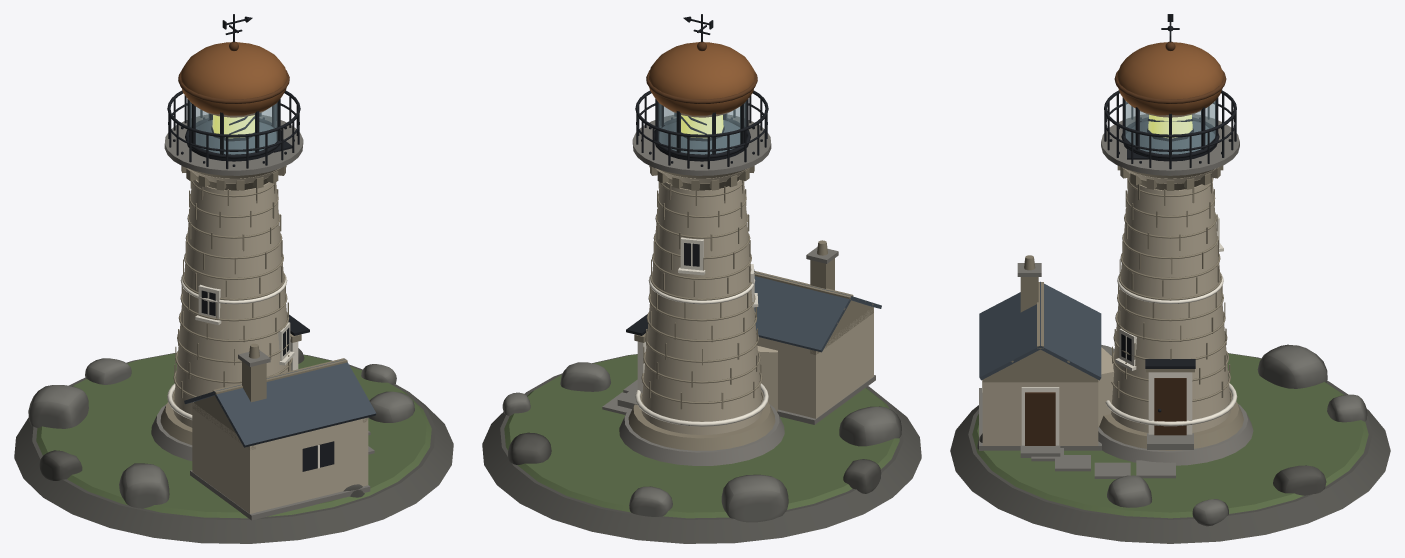
Rendered from lighthouse.glb.
3 renders of one model, left to right at view 1: azimuth 30°, elevation 25°; view 2: azimuth 150°, elevation 25°; view 3: azimuth 270°, elevation 25°, orthographic.
Parts seen in each view (by area): view 1: Mesh_GrassTop, Mesh_Tower, Mesh_BasePlatform, Mesh_CottageRoofL, Mesh_CottageWallN, Mesh_CopperDome, Mesh_CottageWallW, Mesh_GalleryDeck, Mesh_LanternGlass, Mesh_Rock4, Mesh_Rock2, Mesh_LanternFloor (+15 smaller); view 2: Mesh_GrassTop, Mesh_Tower, Mesh_BasePlatform, Mesh_CopperDome, Mesh_CottageRoofR, Mesh_CottageWallW, Mesh_PlinthStep1, Mesh_GalleryDeck, Mesh_PlinthStep2, Mesh_Rock4, Mesh_LanternGlass, Mesh_CottageWallS (+17 smaller); view 3: Mesh_GrassTop, Mesh_Tower, Mesh_BasePlatform, Mesh_CopperDome, Mesh_CottageWallE, Mesh_CottageRoofR, Mesh_CottageRoofL, Mesh_GalleryDeck, Mesh_LanternGlass, Mesh_PlinthStep1, Mesh_Rock4, Mesh_CottageGableE (+22 smaller).
Part boxes in pixels (left/top/right/bottom): Mesh_GrassTop: left=36, top=353, right=431, bottom=518; Mesh_Tower: left=173, top=179, right=291, bottom=427; Mesh_BasePlatform: left=14, top=353, right=453, bottom=543; Mesh_CottageRoofL: left=214, top=359, right=376, bottom=447; Mesh_CottageWallN: left=255, top=419, right=362, bottom=512; Mesh_CopperDome: left=180, top=42, right=286, bottom=117; Mesh_CottageWallW: left=192, top=402, right=255, bottom=513; Mesh_GalleryDeck: left=164, top=114, right=303, bottom=175; Mesh_LanternGlass: left=190, top=102, right=277, bottom=154; Mesh_Rock4: left=28, top=385, right=88, bottom=428; Mesh_Rock2: left=119, top=463, right=169, bottom=508; Mesh_LanternFloor: left=187, top=121, right=279, bottom=161; Mesh_GrassTop: left=504, top=354, right=899, bottom=518; Mesh_Tower: left=641, top=179, right=762, bottom=434; Mesh_BasePlatform: left=482, top=354, right=921, bottom=543; Mesh_CopperDome: left=649, top=42, right=755, bottom=117; Mesh_CottageRoofR: left=754, top=272, right=851, bottom=352; Mesh_CottageWallW: left=810, top=307, right=873, bottom=418; Mesh_PlinthStep1: left=619, top=404, right=784, bottom=465; Mesh_GalleryDeck: left=632, top=114, right=771, bottom=175; Mesh_PlinthStep2: left=628, top=395, right=775, bottom=450; Mesh_Rock4: left=721, top=474, right=788, bottom=522; Mesh_LanternGlass: left=658, top=102, right=745, bottom=154; Mesh_CottageWallS: left=758, top=337, right=810, bottom=416; Mesh_GrassTop: left=972, top=353, right=1368, bottom=518; Mesh_Tower: left=1111, top=177, right=1230, bottom=432; Mesh_BasePlatform: left=950, top=353, right=1390, bottom=543; Mesh_CopperDome: left=1117, top=42, right=1223, bottom=117; Mesh_CottageWallE: left=982, top=382, right=1098, bottom=445; Mesh_CottageRoofR: left=1040, top=282, right=1101, bottom=380; Mesh_CottageRoofL: left=979, top=282, right=1040, bottom=380; Mesh_GalleryDeck: left=1101, top=114, right=1239, bottom=175; Mesh_LanternGlass: left=1125, top=101, right=1215, bottom=154; Mesh_PlinthStep1: left=1098, top=404, right=1253, bottom=465; Mesh_Rock4: left=1257, top=344, right=1327, bottom=388; Mesh_CottageGableE: left=982, top=349, right=1098, bottom=382.
Size of the model in its own units: 12.2 by 13.33 by 12.2.
